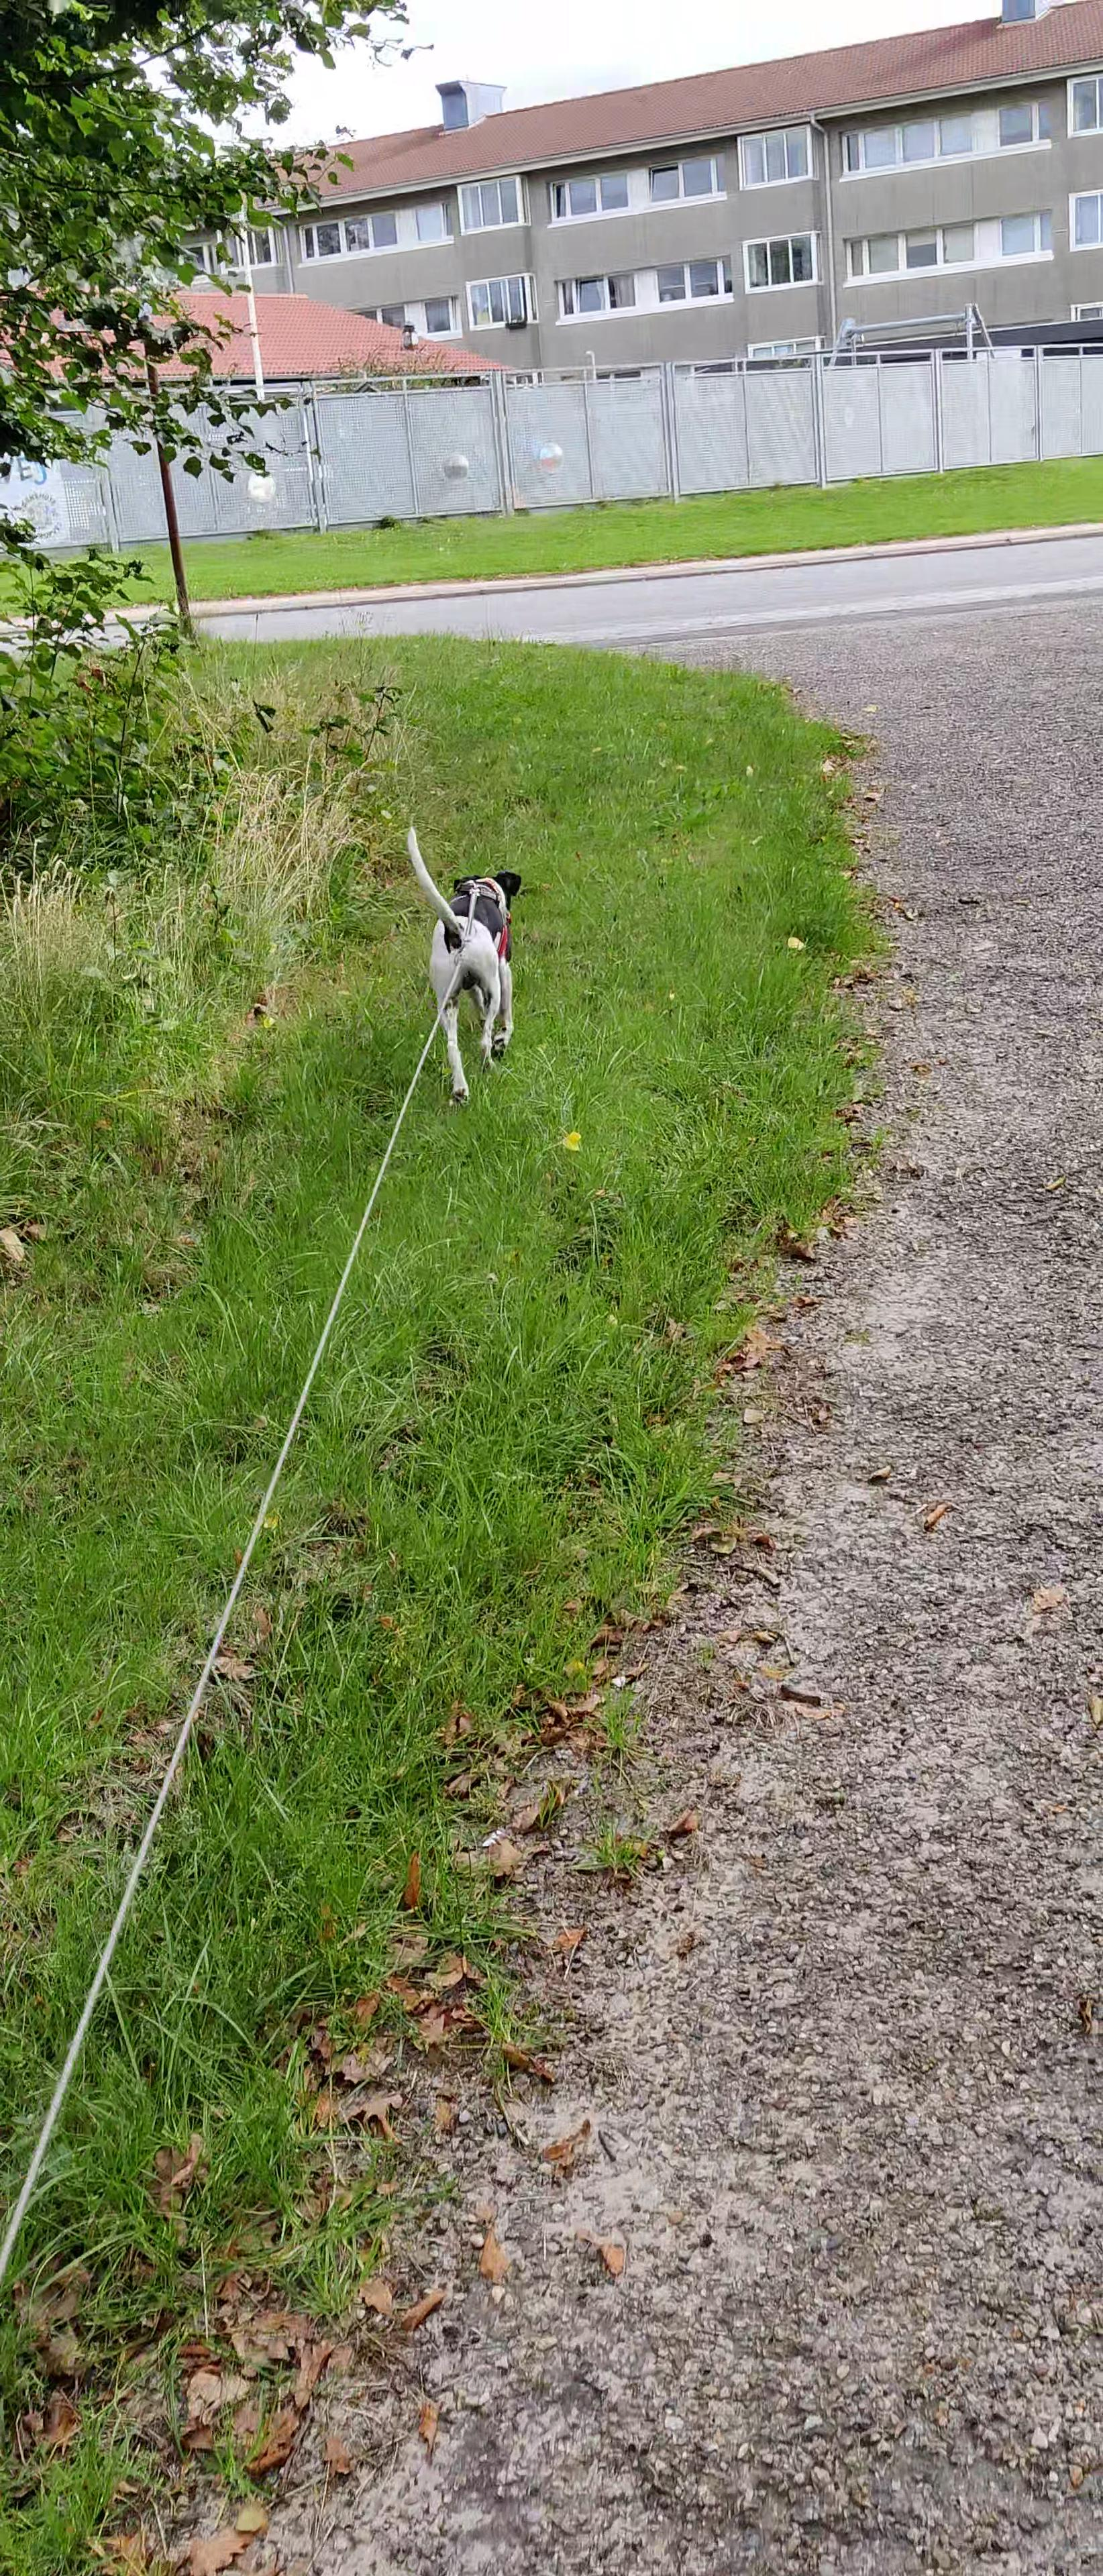Dog: (390, 812, 531, 1130)
